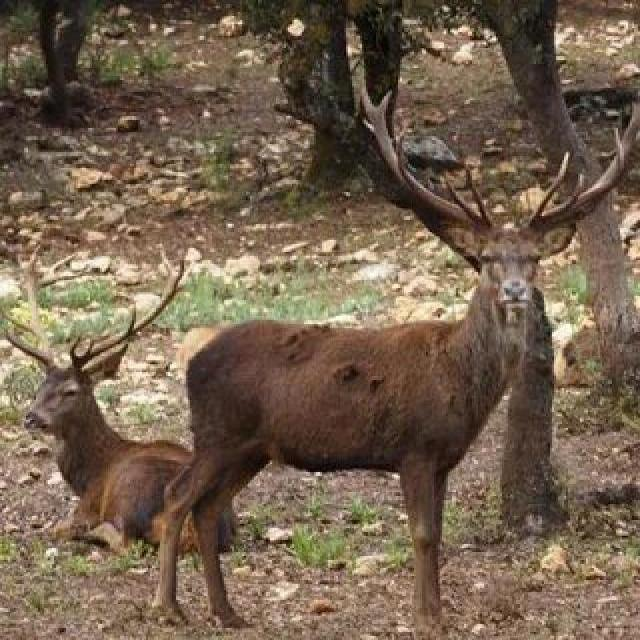deer: (96, 165, 620, 614), (0, 309, 274, 571)
